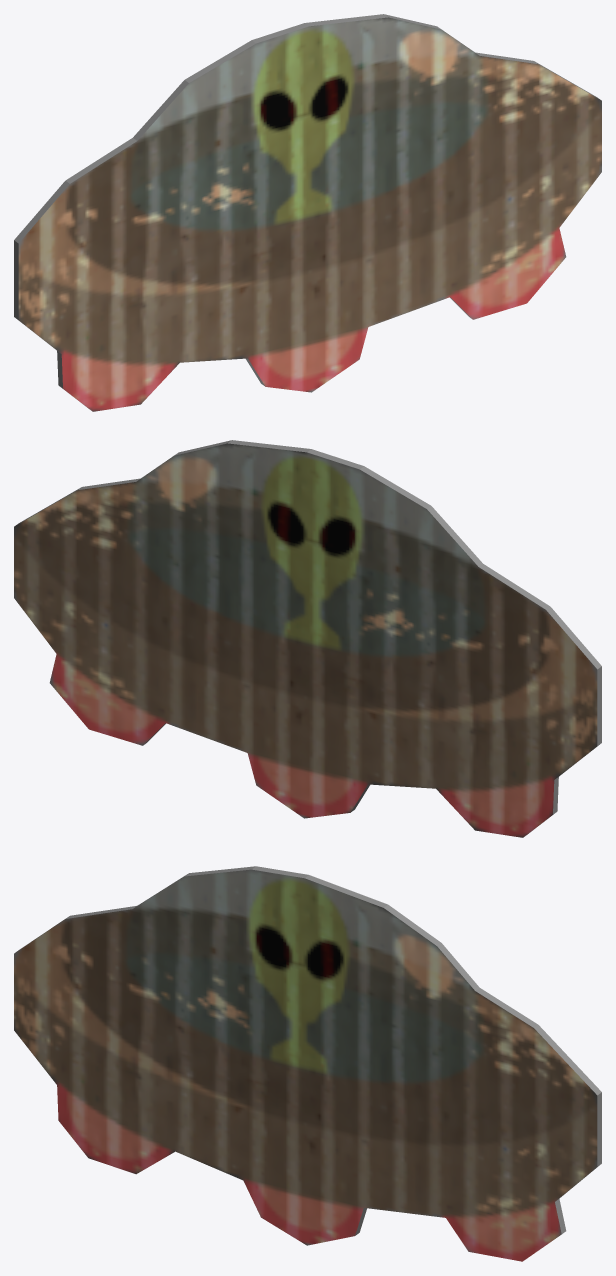
The model's file is SM_UFO.fbx.
3 views of the same model, one above another, from view 1: azimuth 30°, elevation 25°; view 2: azimuth 150°, elevation 25°; view 3: azimuth 330°, elevation 25° (orthographic).
Parts seen in each view (by area): view 1: SM_UFO; view 2: SM_UFO; view 3: SM_UFO.
Boxes of the visible parts, left/top/right/bottom form: SM_UFO: left=14, top=14, right=601, bottom=411; SM_UFO: left=14, top=440, right=601, bottom=837; SM_UFO: left=14, top=866, right=601, bottom=1261.
Bounding box in the file's own units: 508 × 305 × 6.9.
